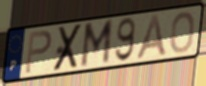9: (114, 16, 138, 64)
A: (135, 14, 169, 61)
M: (79, 17, 115, 71)
O: (169, 10, 196, 55)
P: (23, 29, 53, 76)
X: (51, 22, 85, 74)
